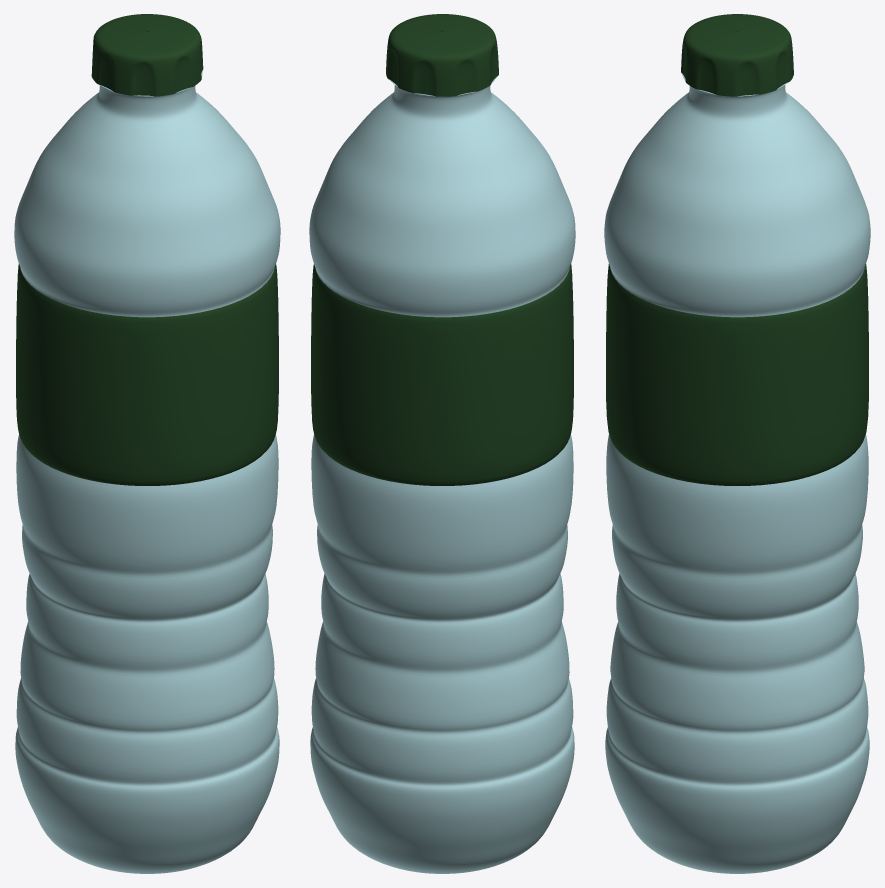
The model's file is botella 1.fbx.
3 renders of one model, left to right at view 1: azimuth 30°, elevation 25°; view 2: azimuth 150°, elevation 25°; view 3: azimuth 270°, elevation 25°, orthographic.
Parts seen in each view (by area): view 1: Vert, Vert.002, Vert.001; view 2: Vert, Vert.002, Vert.001; view 3: Vert, Vert.002, Vert.001.
Boxes of the visible parts, x1,y1,x2,y2 form: Vert: (14,70,280,873); Vert.002: (16,264,278,485); Vert.001: (91,14,203,96); Vert: (309,75,575,873); Vert.002: (311,264,573,485); Vert.001: (386,14,498,96); Vert: (604,73,870,873); Vert.002: (606,264,868,485); Vert.001: (681,14,793,96).
Bounding box in the file's own units: 137 × 460 × 137.
